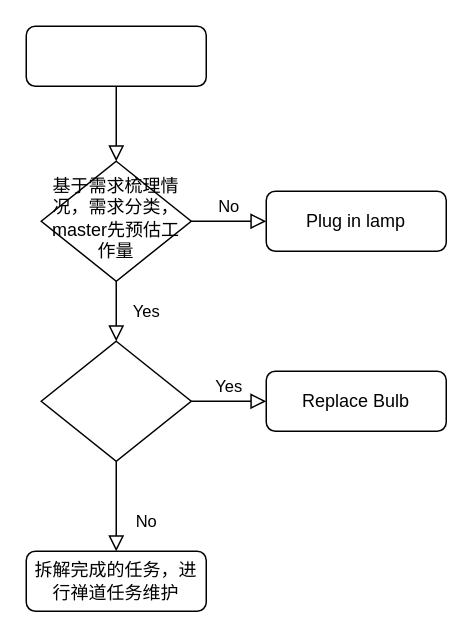
This 473x638 diagram has some shape labels left out. The shapes that lost their labels are listed below. From the top down, each one's box as (x1, y1, x2, y2) in pixels, then its label:
(25, 25, 206, 86): 维护产品计划，基于计划，开需求梳理会
(40, 340, 191, 461): 基于预估工作量，大家评估工作量，任务拆解
